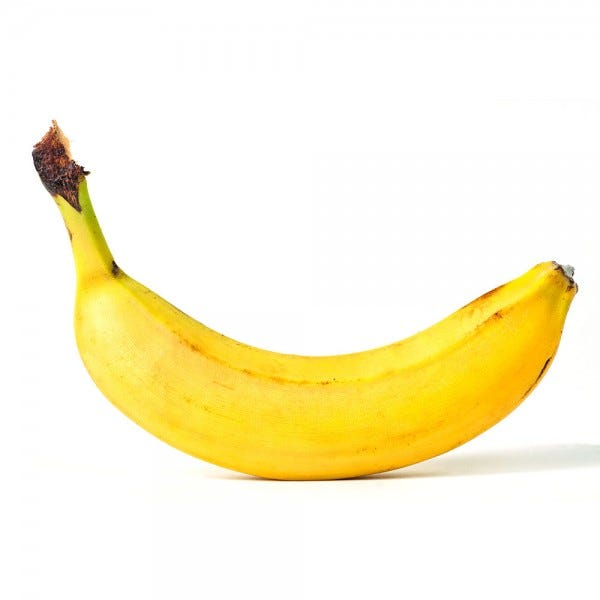looks_good: (16, 79, 600, 527)
